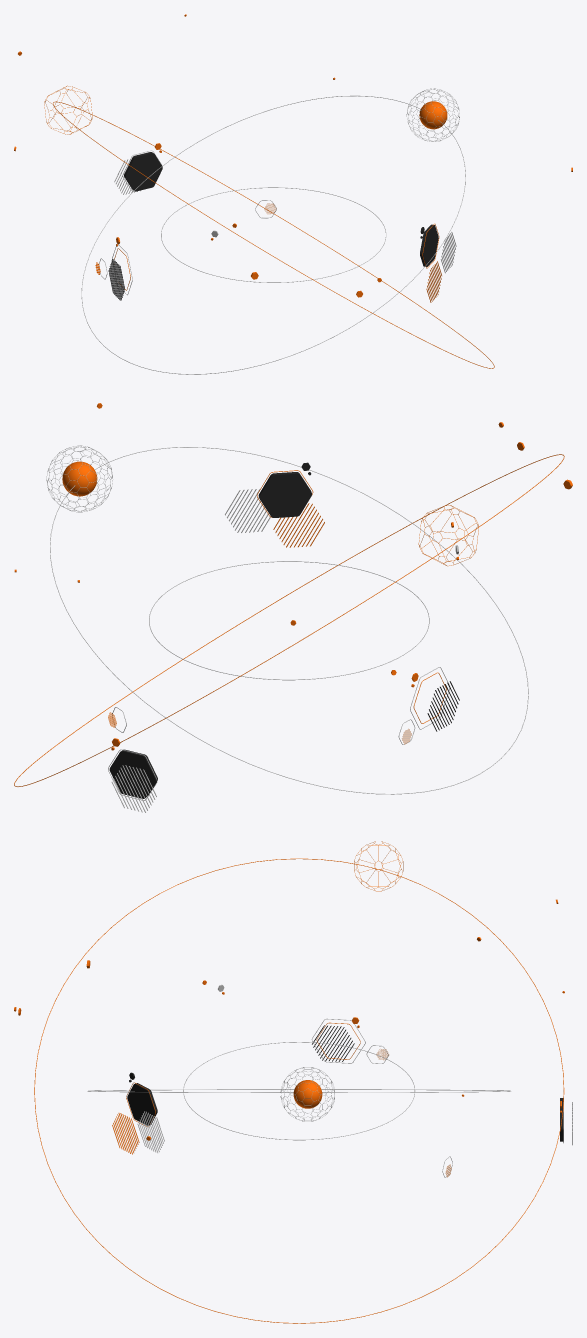
The picture shows the model from 3 angles, top to bottom: view 1: azimuth 30°, elevation 25°; view 2: azimuth 150°, elevation 25°; view 3: azimuth 270°, elevation 25°; orthographic projection. The views are drawn at different scales.
Visible parts, largest first — view 1: Circle003, Circle002, NGon003, GeoSphere001, Sphere001, NGon016, Circle001; view 2: NGon016, NGon003, Circle003, Circle002, GeoSphere001, Sphere001, Line016, Circle001, GeoSphere002, Line022, Line021, Line019; view 3: Circle003, NGon016, GeoSphere001, Circle002, Sphere001, Line022, Line021.
Part boxes in pixels (x1,y1,x2,y2): Circle003: [53, 101, 494, 368]; Circle002: [81, 95, 465, 374]; NGon003: [124, 152, 162, 191]; GeoSphere001: [406, 88, 459, 141]; Sphere001: [419, 101, 447, 129]; NGon016: [420, 224, 438, 266]; Circle001: [161, 187, 386, 282]; NGon016: [258, 472, 311, 517]; NGon003: [109, 749, 157, 798]; Circle003: [14, 454, 564, 786]; Circle002: [50, 447, 528, 794]; GeoSphere001: [46, 445, 112, 512]; Sphere001: [62, 461, 97, 496]; Line016: [111, 765, 156, 812]; Circle001: [149, 561, 429, 680]; GeoSphere002: [418, 505, 478, 566]; Line022: [273, 503, 324, 547]; Line021: [225, 489, 270, 532]; Line019: [427, 681, 459, 731]; Circle003: [34, 858, 564, 1323]; NGon016: [127, 1083, 157, 1125]; GeoSphere001: [280, 1067, 334, 1121]; Circle002: [87, 1089, 510, 1092]; Sphere001: [293, 1080, 322, 1108]; Line022: [112, 1113, 139, 1154]; Line021: [137, 1111, 164, 1152].
Size of the model in its own units: 10.18 by 7 by 11.56.
